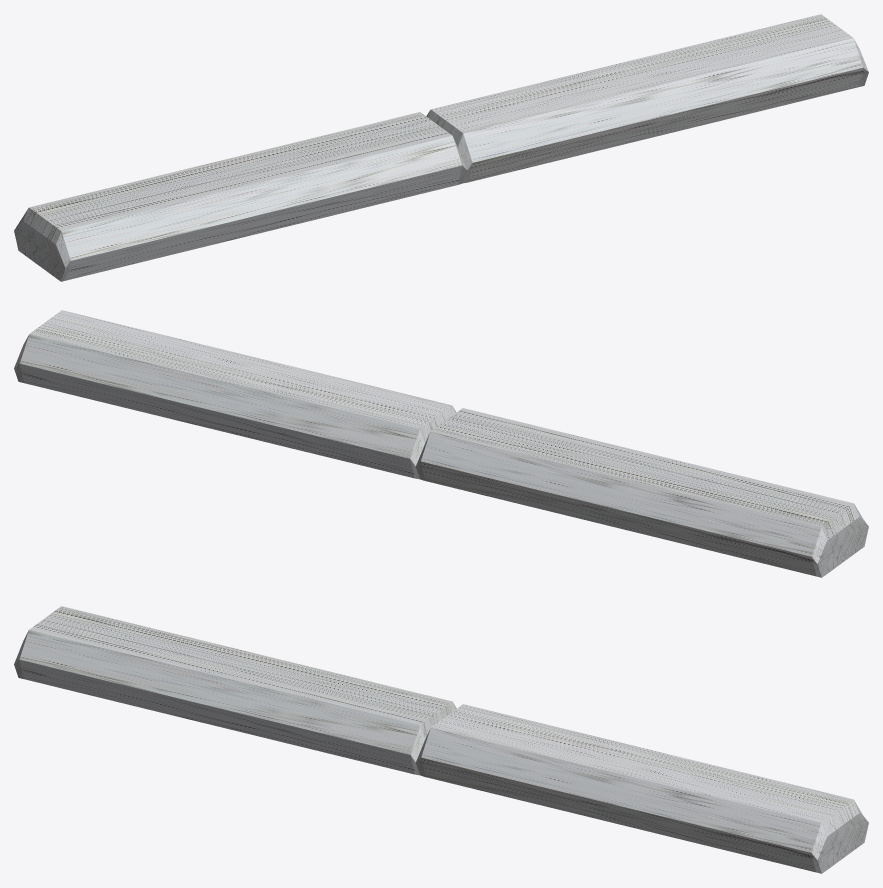
The model's file is Sidewalk.fbx.
The picture shows the model from 3 angles, top to bottom: view 1: azimuth 30°, elevation 25°; view 2: azimuth 150°, elevation 25°; view 3: azimuth 330°, elevation 25°; orthographic projection.
Visible parts, largest first — view 1: SideWalk; view 2: SideWalk; view 3: SideWalk.
Part boxes in pixels (x1=…): SideWalk: x1=14, y1=14, x2=868, y2=281; SideWalk: x1=14, y1=310, x2=868, y2=577; SideWalk: x1=14, y1=606, x2=868, y2=873.
Bounding box in the file's own units: 1750 × 94.93 × 194.
